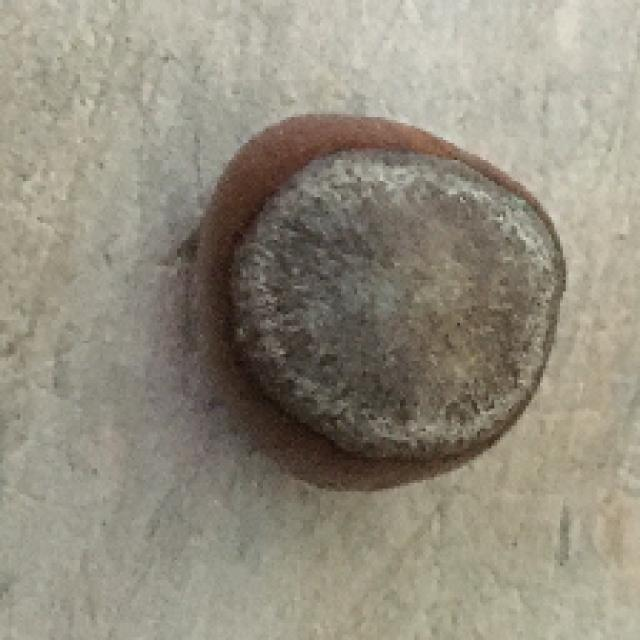damagedHazelnut: (196, 97, 556, 503)
